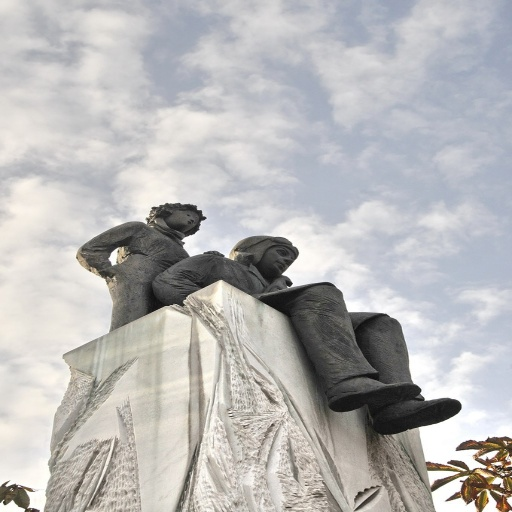hand: (103, 266, 118, 286), (201, 247, 230, 257), (201, 251, 223, 256)
